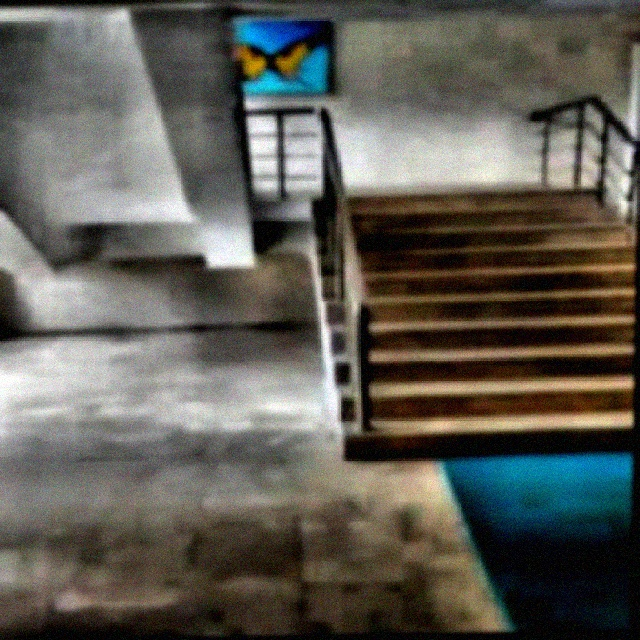stair: (280, 172, 635, 474)
